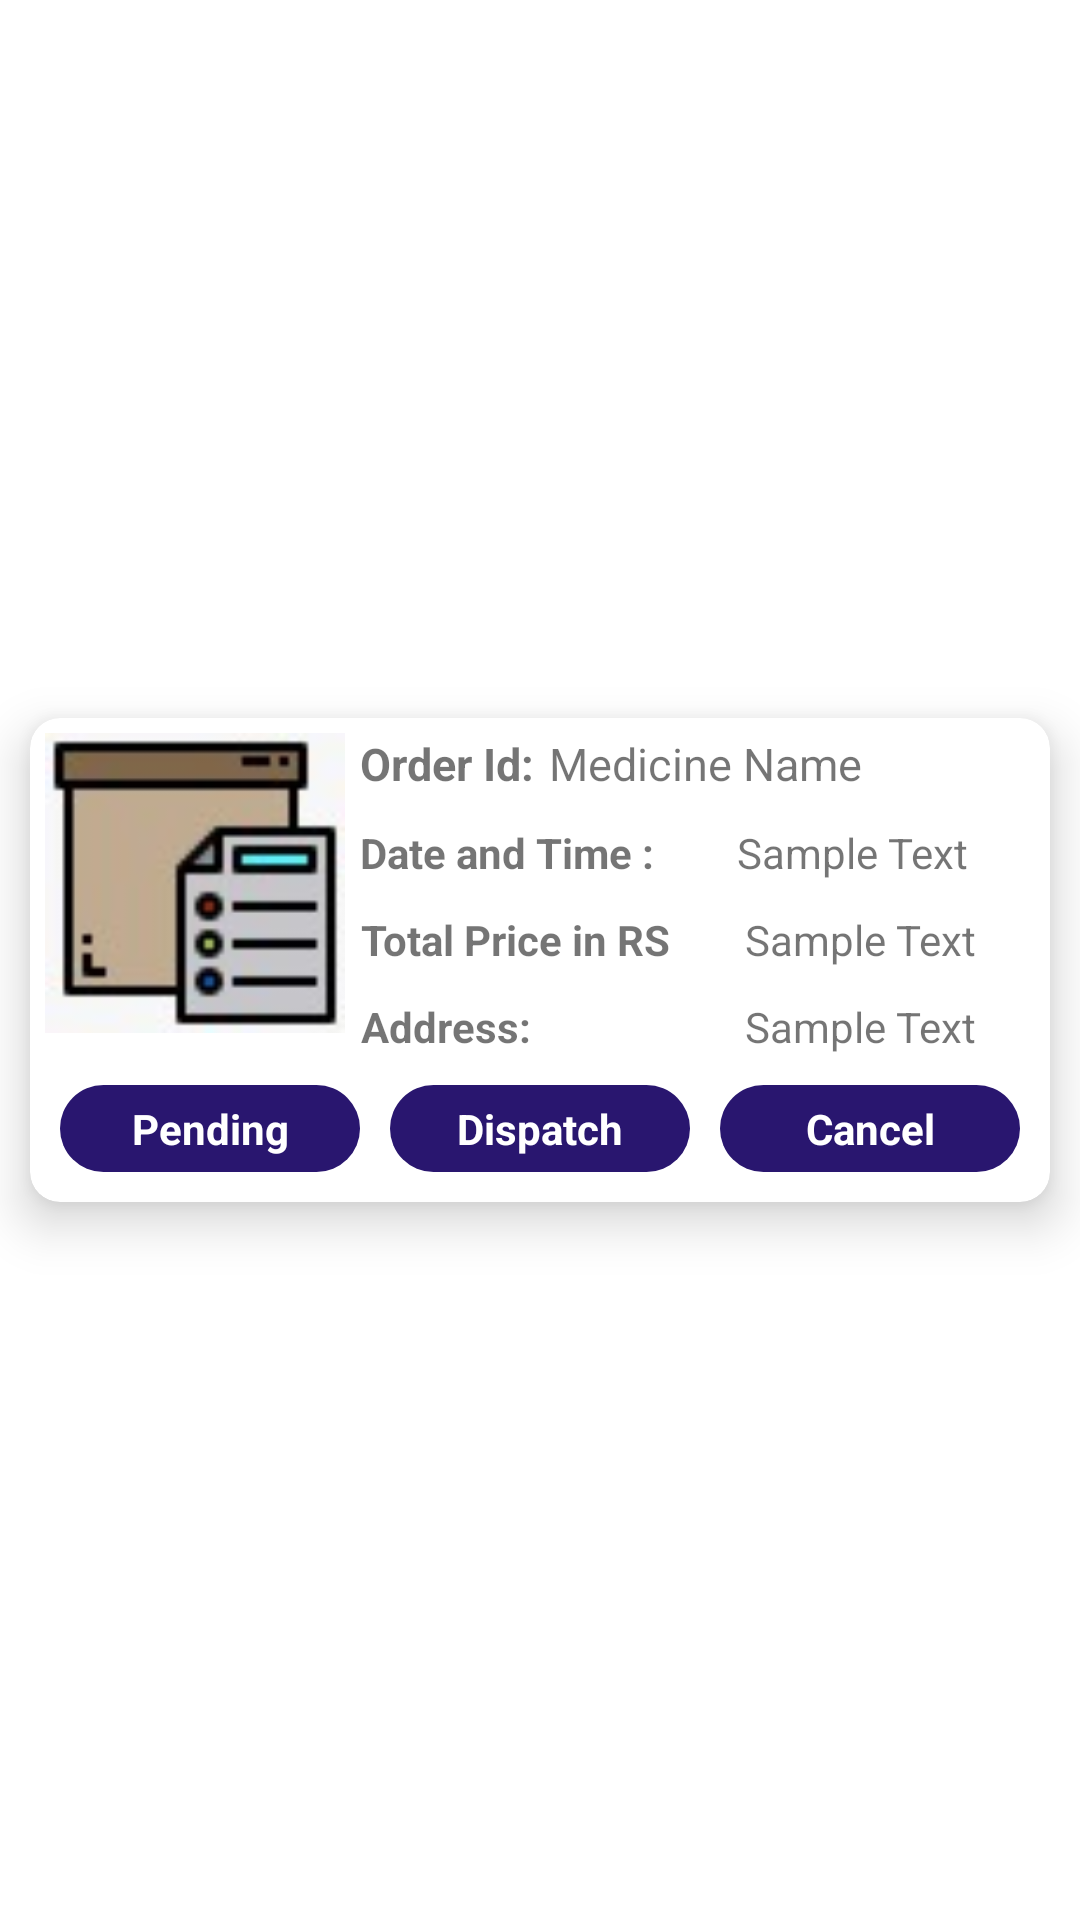

Icons on this 1080x1920 Android screen, each with its box as [x1, y1, x2, y2]:
box: [52, 740, 338, 1026]
